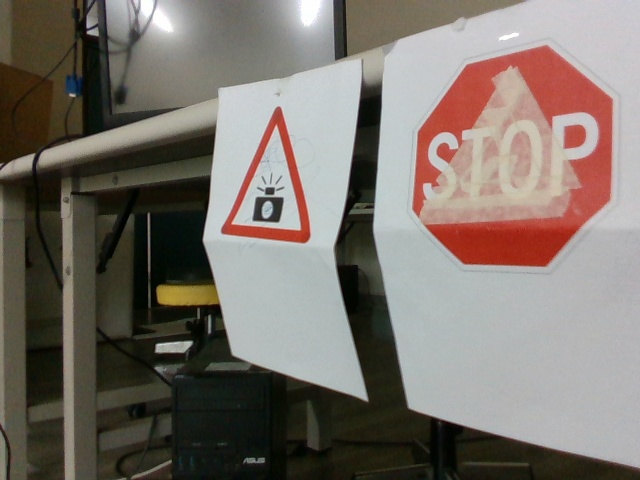camera: (218, 105, 310, 247)
stop: (411, 40, 620, 267)
